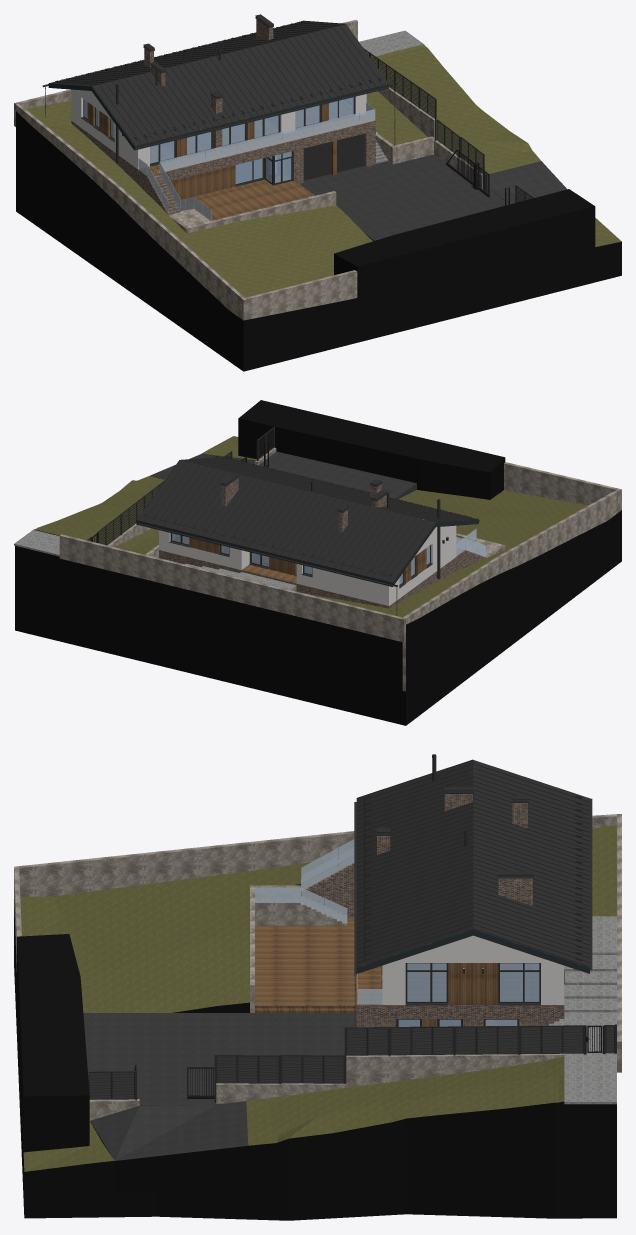
Rendered from ДОМ Новоабзаково 21-01-24.fbx.
The picture shows the model from 3 angles, top to bottom: view 1: azimuth 30°, elevation 25°; view 2: azimuth 150°, elevation 25°; view 3: azimuth 270°, elevation 25°; orthographic projection. The views are drawn at different scales.
Visible parts, largest first — view 1: Velfac RAL 9005, Трава - Коричневая, Краска-04, Бетон - 04, Дорожное Покрытие - Асфальт Светлый, Половая Доска - 03, Краска - Антрацит, Кирпич - Коричневый, Стекло - Голубое, Стекло голубое, Штукатурка - Шероховатая Белая, Velfac RAL 7016 (+2 smaller); view 2: Velfac RAL 9005, Краска-04, Бетон - 04, Трава - Коричневая, Штукатурка - Шероховатая Белая, Краска - Антрацит, Дорожное Покрытие - Асфальт Светлый, Кирпич - Коричневый, Velfac RAL 7016, Половая Доска - 03, Дорожное Покрытие - Мощение Замшелое, Стекло - Голубое (+1 smaller); view 3: Velfac RAL 9005, Трава - Коричневая, Краска-04, Дорожное Покрытие - Асфальт Светлый, Бетон - 04, Краска - Антрацит, Половая Доска - 03, Дорожное Покрытие - Мощение Замшелое, Кирпич - Коричневый, Штукатурка - Шероховатая Белая, Стекло - Голубое, Стекло голубое (+2 smaller).
Boxes of the visible parts, bbox=[...] form: Velfac RAL 9005: bbox=[16, 111, 621, 371]; Трава - Коричневая: bbox=[26, 44, 621, 297]; Краска-04: bbox=[49, 14, 388, 145]; Бетон - 04: bbox=[14, 19, 482, 320]; Дорожное Покрытие - Асфальт Светлый: bbox=[236, 154, 566, 241]; Половая Доска - 03: bbox=[87, 100, 375, 220]; Краска - Антрацит: bbox=[42, 21, 533, 202]; Кирпич - Коричневый: bbox=[71, 19, 375, 214]; Стекло - Голубое: bbox=[84, 97, 353, 183]; Стекло голубое: bbox=[138, 102, 375, 220]; Штукатурка - Шероховатая Белая: bbox=[71, 89, 366, 168]; Velfac RAL 7016: bbox=[48, 83, 388, 150]; Velfac RAL 9005: bbox=[15, 400, 621, 725]; Краска-04: bbox=[136, 457, 477, 582]; Бетон - 04: bbox=[59, 447, 621, 691]; Трава - Коричневая: bbox=[34, 436, 588, 617]; Штукатурка - Шероховатая Белая: bbox=[159, 519, 456, 605]; Краска - Антрацит: bbox=[87, 426, 479, 615]; Дорожное Покрытие - Асфальт Светлый: bbox=[150, 451, 416, 499]; Кирпич - Коричневый: bbox=[159, 478, 486, 608]; Velfac RAL 7016: bbox=[136, 519, 478, 586]; Половая Доска - 03: bbox=[176, 537, 465, 583]; Дорожное Покрытие - Мощение Замшелое: bbox=[14, 529, 296, 590]; Стекло - Голубое: bbox=[172, 533, 429, 584]; Velfac RAL 9005: bbox=[14, 884, 616, 1220]; Трава - Коричневая: bbox=[20, 825, 616, 1171]; Краска-04: bbox=[356, 759, 589, 967]; Дорожное Покрытие - Асфальт Светлый: bbox=[83, 1013, 460, 1160]; Бетон - 04: bbox=[14, 814, 621, 1120]; Краска - Антрацит: bbox=[88, 754, 616, 1102]; Половая Доска - 03: bbox=[255, 917, 538, 1026]; Дорожное Покрытие - Мощение Замшелое: bbox=[549, 916, 616, 1104]; Кирпич - Коричневый: bbox=[301, 794, 564, 1027]; Штукатурка - Шероховатая Белая: bbox=[382, 935, 564, 1004]; Стекло - Голубое: bbox=[398, 963, 539, 1026]; Стекло голубое: bbox=[255, 839, 382, 1004].
Size of the model in its own units: 3614 by 3558 by 1470.
Materials: 35 (18 with a texture image).
